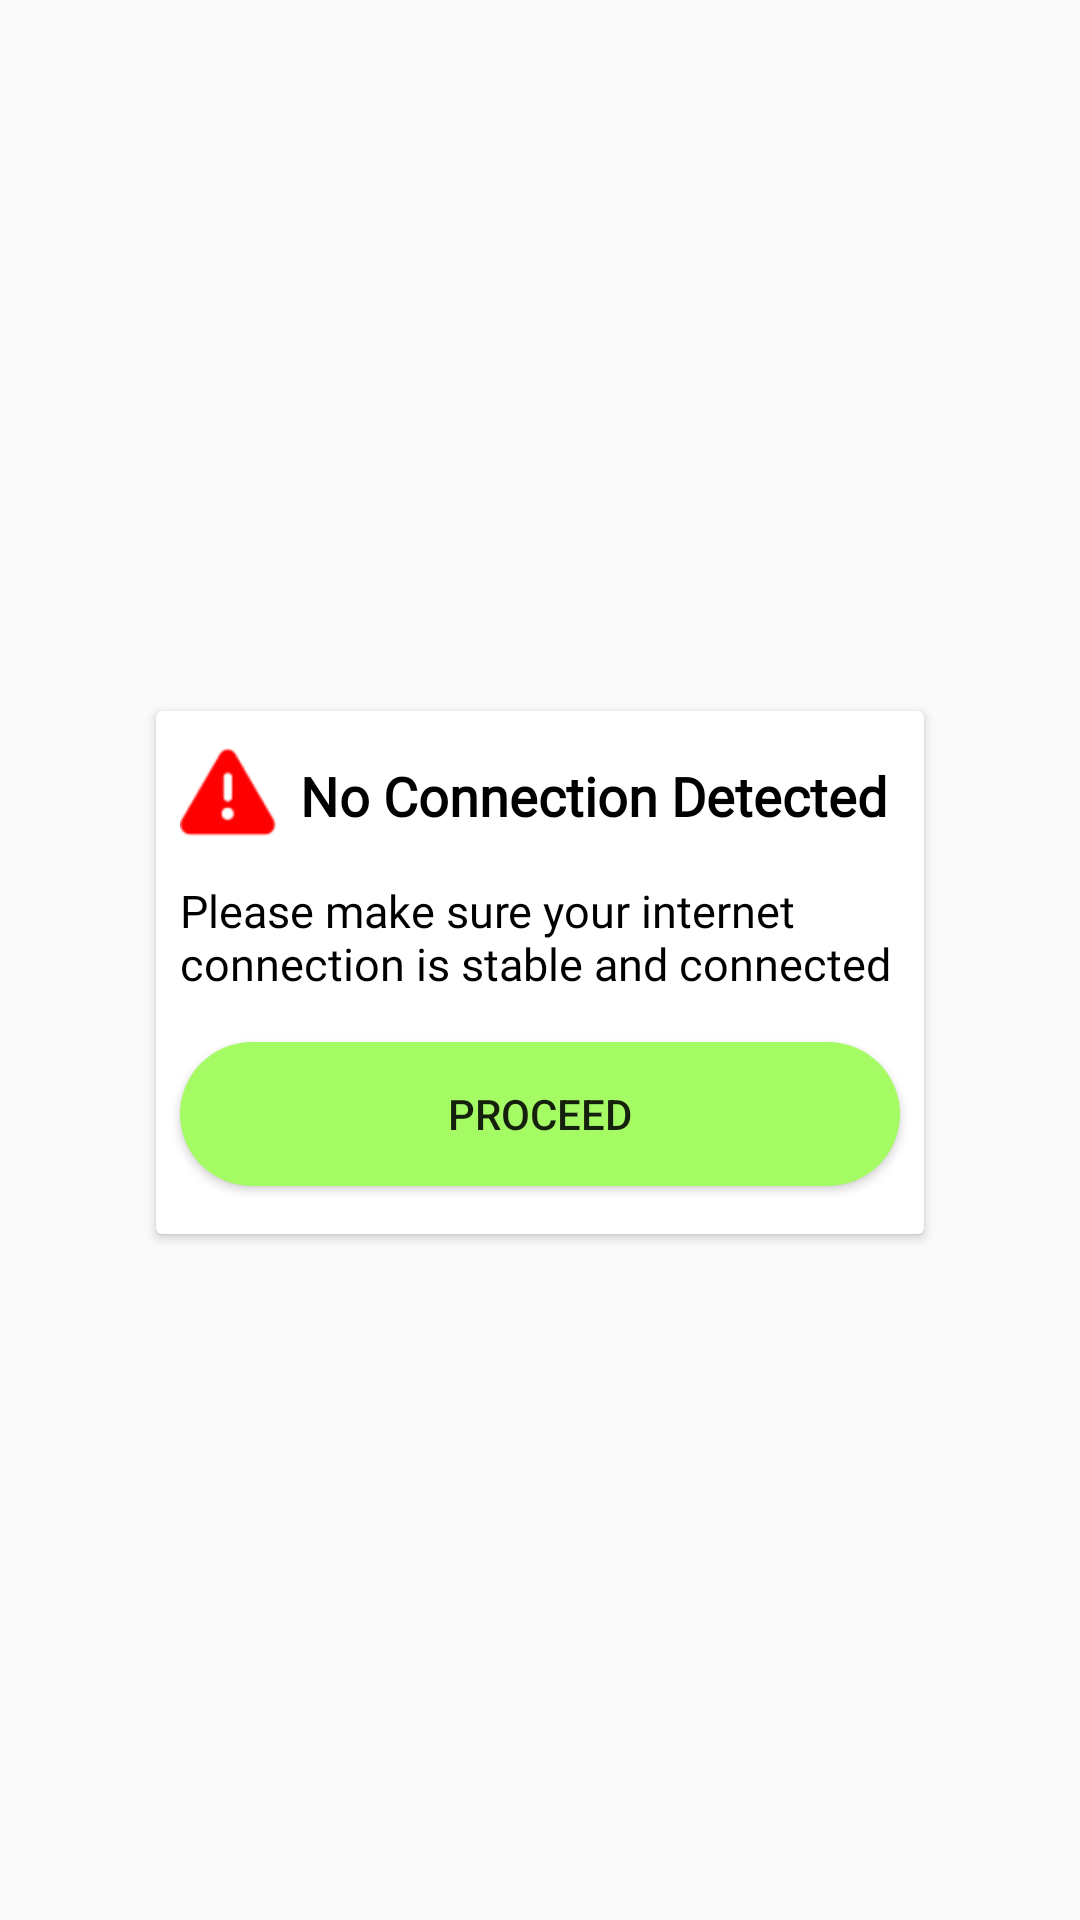

Named icons in this screenshot (1080px×1920px) and their bounding boxes, (x1, y1, x2, y2):
alert: (180, 748, 276, 836)
